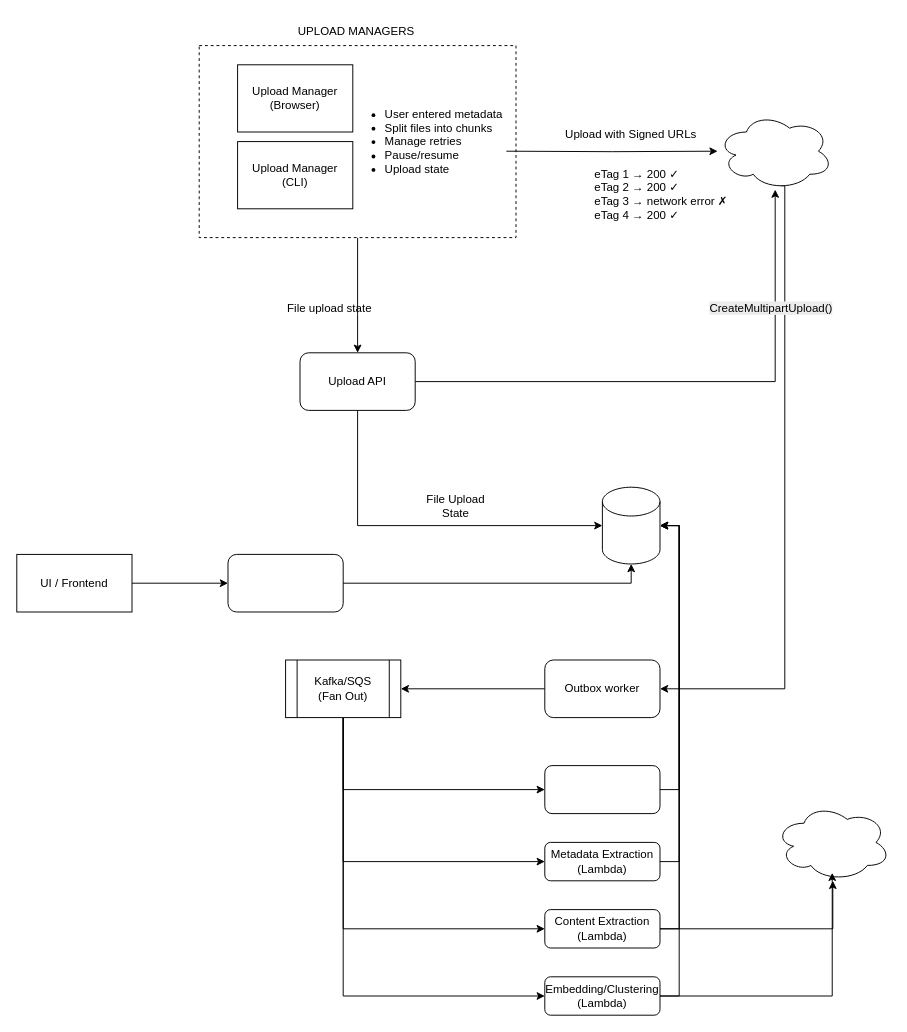
Some shapes in this 907 by 1032 pixel diagram are drawn without their labels. Each missing label, with the box of its shape:
App API: (227, 553, 343, 612)
Classification (Lambda): (544, 765, 660, 814)
LLM (On premise?): (774, 803, 890, 881)
Postgres: (601, 486, 660, 564)
S3: (717, 112, 833, 190)
